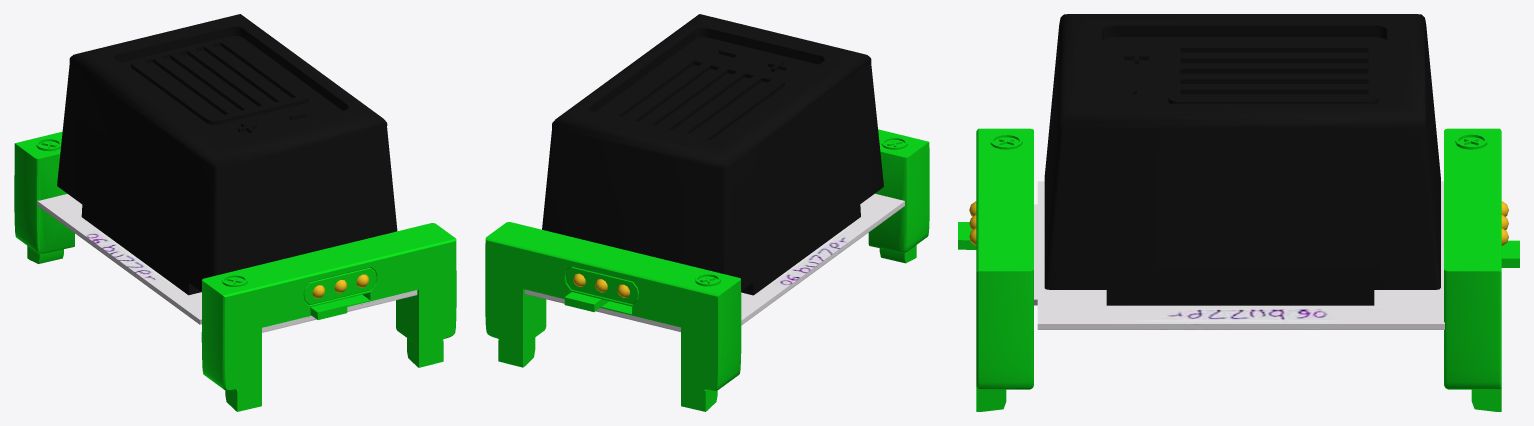
The model's file is littlebit o6 buzzer.fbx.
3 renders of one model, left to right at view 1: azimuth 30°, elevation 25°; view 2: azimuth 150°, elevation 25°; view 3: azimuth 270°, elevation 25°, orthographic. The views are drawn at different scales.
Visible parts, largest first — view 1: Box002, Line001, Rectangle002, Line002, Box001, SShape001; view 2: Box002, Line002, Rectangle002, Line001, Box001; view 3: Box002, Line002, Line001, Box001, Rectangle002.
Part boxes in pixels (<box>): Box002: <box>57,14,397,295</box>; Line001: <box>201,223,456,411</box>; Rectangle002: <box>131,38,308,124</box>; Line002: <box>14,131,74,263</box>; Box001: <box>37,194,417,332</box>; SShape001: <box>37,205,417,332</box>; Box002: <box>542,14,883,295</box>; Line002: <box>485,222,741,411</box>; Rectangle002: <box>606,56,784,139</box>; Line001: <box>868,129,929,263</box>; Box001: <box>525,193,904,331</box>; Box002: <box>1044,14,1440,305</box>; Line002: <box>1444,128,1519,411</box>; Line001: <box>958,128,1033,411</box>; Box001: <box>1034,181,1444,329</box>; Rectangle002: <box>1168,40,1378,103</box>.
Size of the model in its own units: 26.28 by 43.59 by 24.28.
